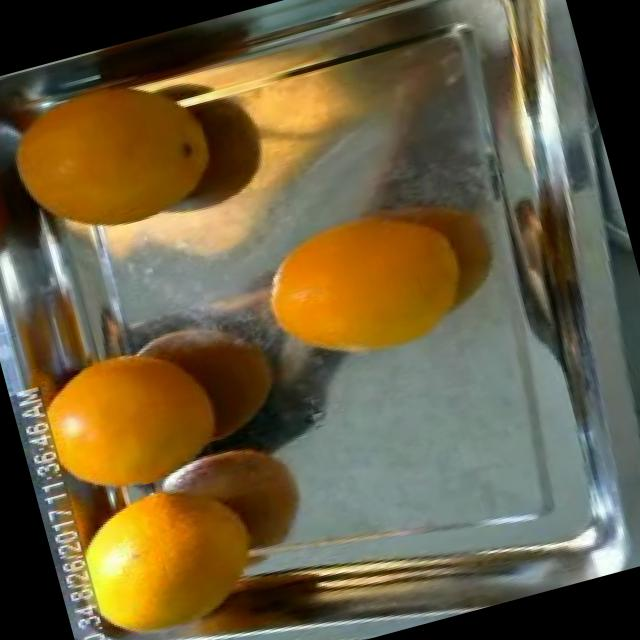Fruit: (13, 319, 257, 522), (235, 182, 467, 392)
